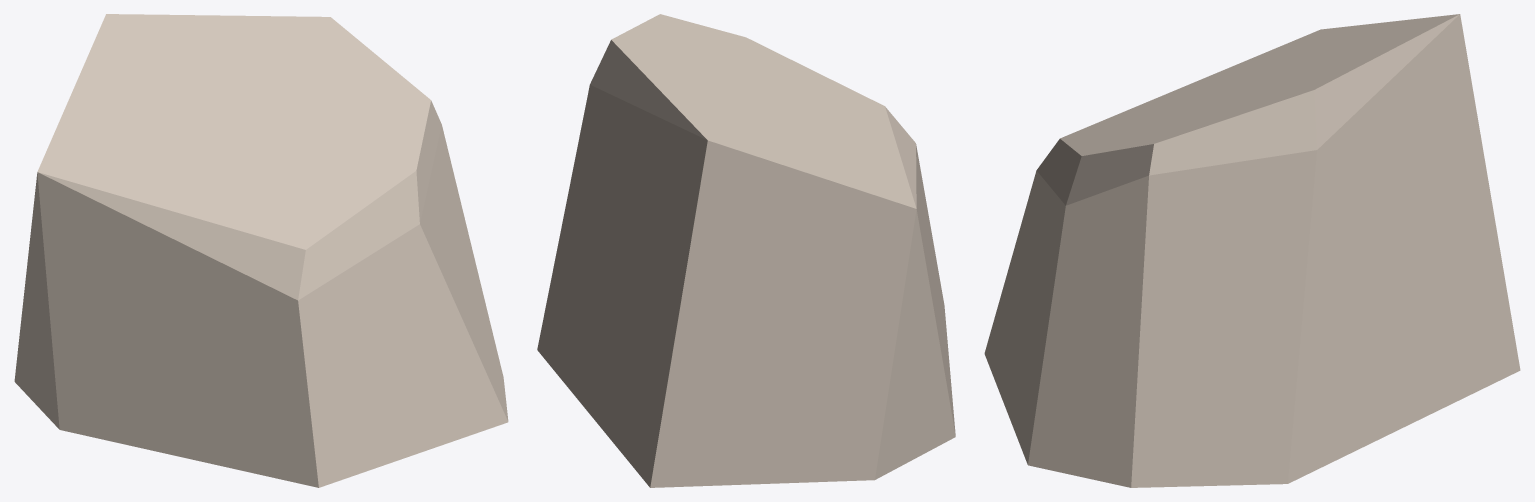
Rendered from stone_08.obj.
The picture shows the model from 3 angles, left to right: view 1: azimuth 30°, elevation 25°; view 2: azimuth 150°, elevation 25°; view 3: azimuth 270°, elevation 25°; orthographic projection. The views are drawn at different scales.
Visible parts, largest first — view 1: Stone_08; view 2: Stone_08; view 3: Stone_08.
Boxes of the visible parts, bbox=[...] form: Stone_08: bbox=[14, 14, 508, 487]; Stone_08: bbox=[537, 14, 955, 487]; Stone_08: bbox=[984, 14, 1520, 487].
Size of the model in its own units: 8.02 by 6.36 by 8.81.
